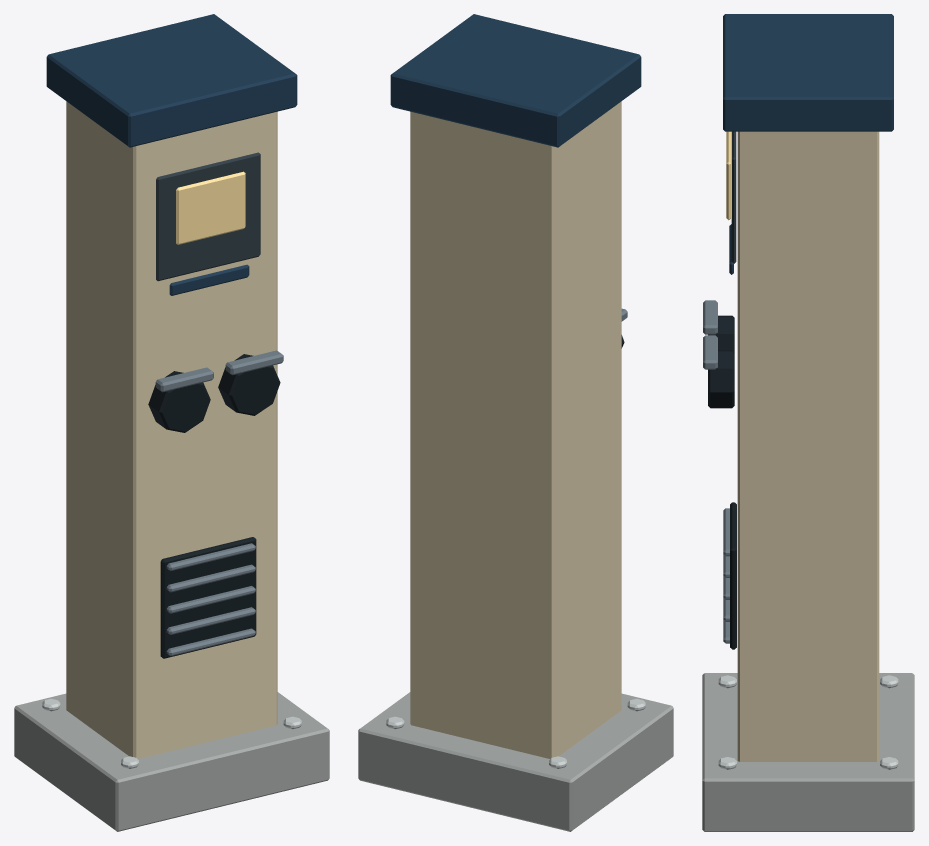
Rendered from b20_marina_shore_power_pedestal.glb.
3 views of the same model, side by side, from view 1: azimuth 30°, elevation 25°; view 2: azimuth 150°, elevation 25°; view 3: azimuth 270°, elevation 25° (orthographic). The views are drawn at different scales.
Visible parts, largest first — view 1: b20_marina_shore_power_pedestal; view 2: b20_marina_shore_power_pedestal; view 3: b20_marina_shore_power_pedestal.
Boxes of the visible parts, x1,y1,x2,y2 form: b20_marina_shore_power_pedestal: (14,14,329,831); b20_marina_shore_power_pedestal: (358,14,673,831); b20_marina_shore_power_pedestal: (702,14,914,831).
Bounding box in the file's own units: 0.43 × 1.35 × 0.36.
